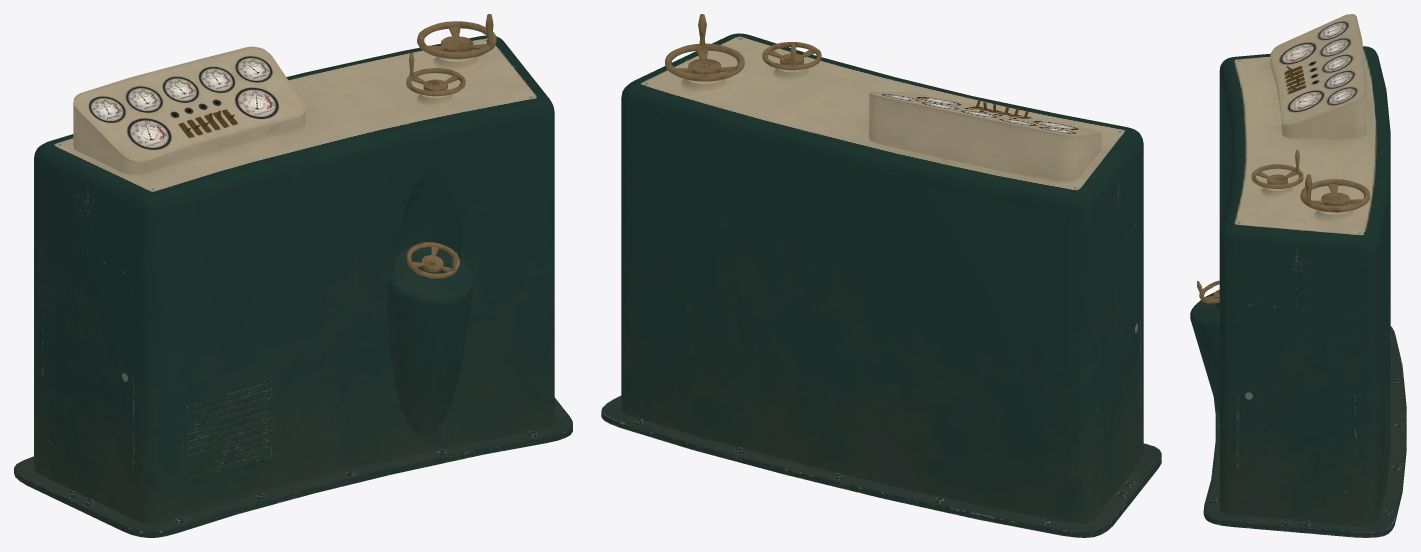
The model's file is tech-console-transformed.glb.
3 renders of one model, left to right at view 1: azimuth 30°, elevation 25°; view 2: azimuth 150°, elevation 25°; view 3: azimuth 270°, elevation 25°, orthographic. The views are drawn at different scales.
Parts seen in each view (by area): view 1: defaultMaterial; view 2: defaultMaterial; view 3: defaultMaterial.
Part boxes in pixels (x1,y1,x2,y2): defaultMaterial: [14, 14, 572, 537]; defaultMaterial: [601, 14, 1161, 537]; defaultMaterial: [1190, 14, 1406, 537].
Size of the model in its own units: 190 by 139 by 81.23.
1 material, 1 textured.
